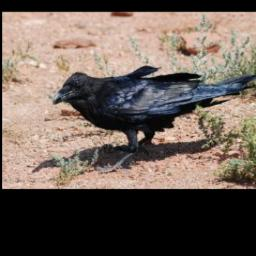Crow: (51, 64, 256, 175)
